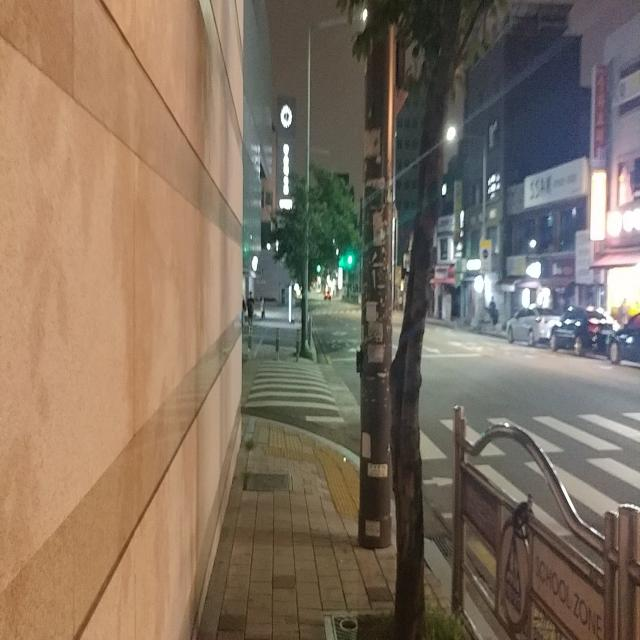횡단보도: (535, 409, 640, 517), (244, 358, 345, 424)
